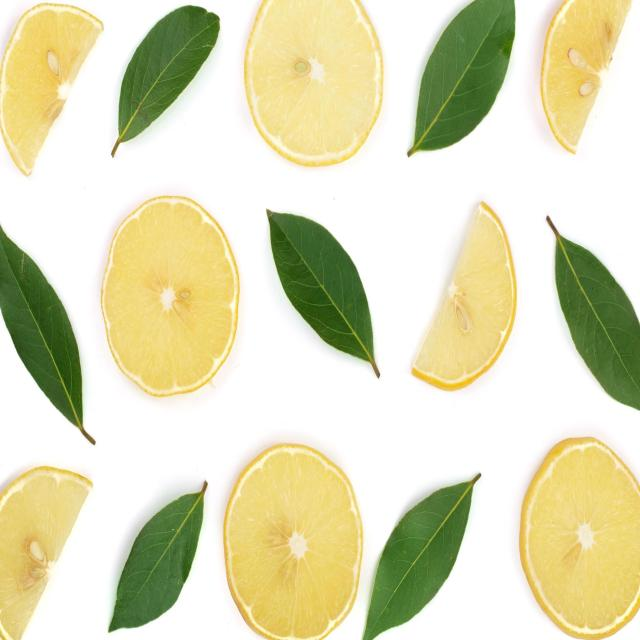lemon: (94, 188, 242, 401), (219, 435, 366, 640), (242, 0, 386, 206), (516, 427, 640, 640)
